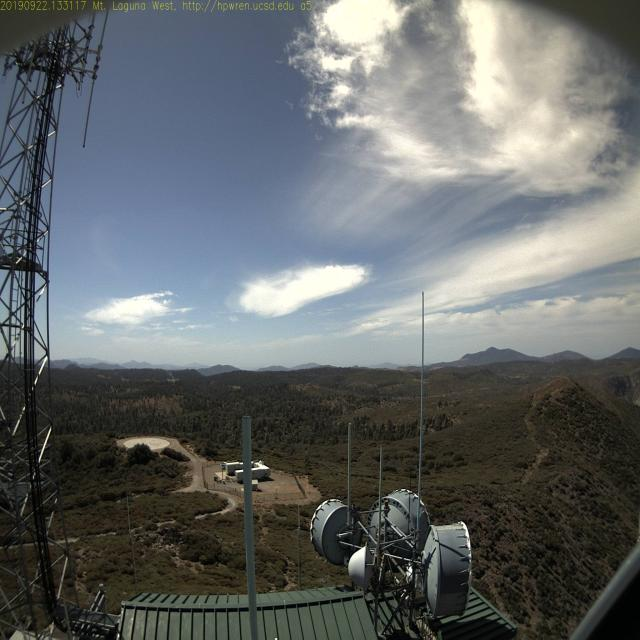smoke: (157, 362, 181, 386)
